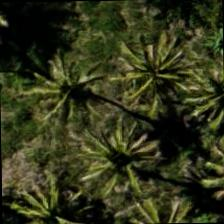Kelapa_Sawit: (8, 51, 100, 143), (114, 28, 205, 120), (1, 164, 93, 223), (164, 42, 223, 134), (98, 169, 190, 223)
